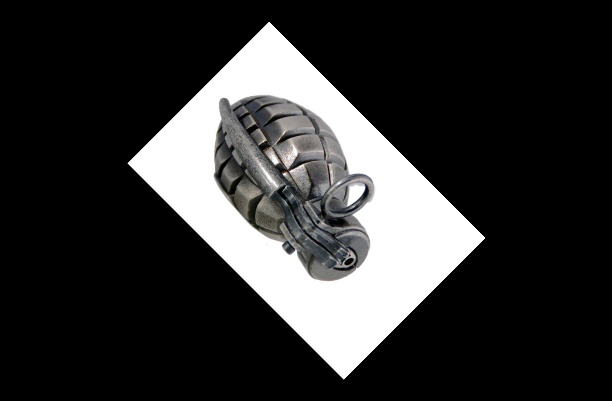e1: (214, 92, 375, 282)
